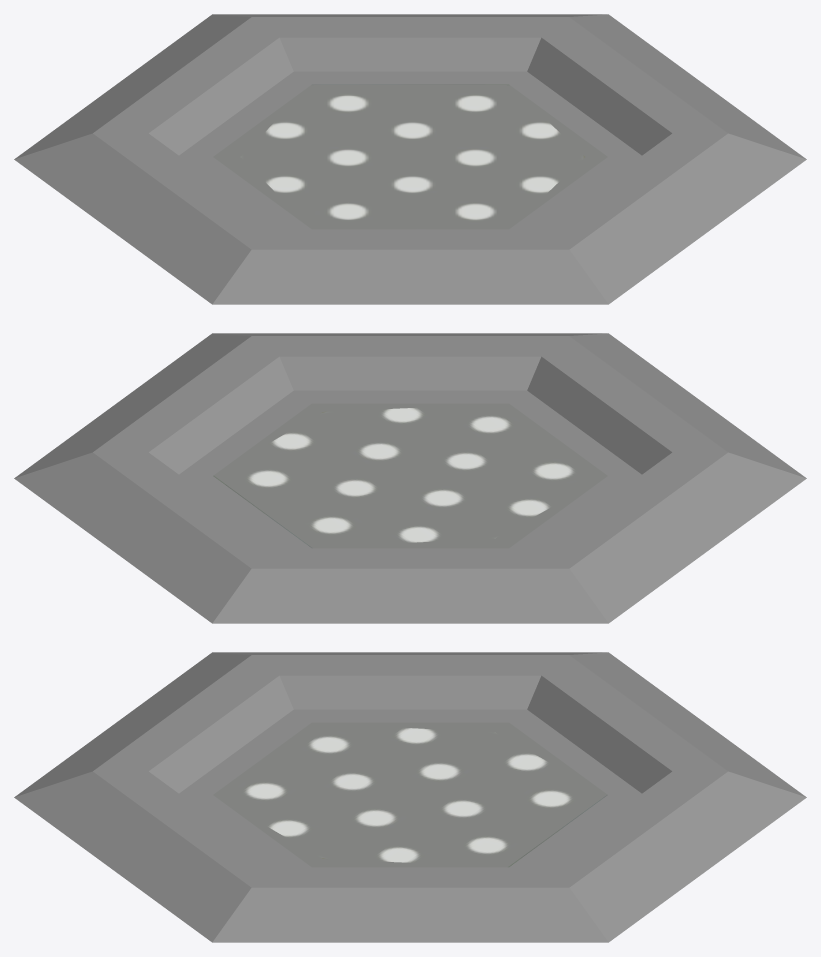
The model's file is Int_ShowerDrain01.fbx.
3 views of the same model, one above another, from view 1: azimuth 30°, elevation 25°; view 2: azimuth 150°, elevation 25°; view 3: azimuth 270°, elevation 25° (orthographic).
Parts seen in each view (by area): view 1: Int_ShowerDrain01; view 2: Int_ShowerDrain01; view 3: Int_ShowerDrain01.
Part boxes in pixels (<box>): Int_ShowerDrain01: <box>14,14,806,304</box>; Int_ShowerDrain01: <box>14,333,806,623</box>; Int_ShowerDrain01: <box>14,652,806,942</box>.
Size of what is drawn, in the model's own units: 16.01 by 18.48 by 0.6708.
